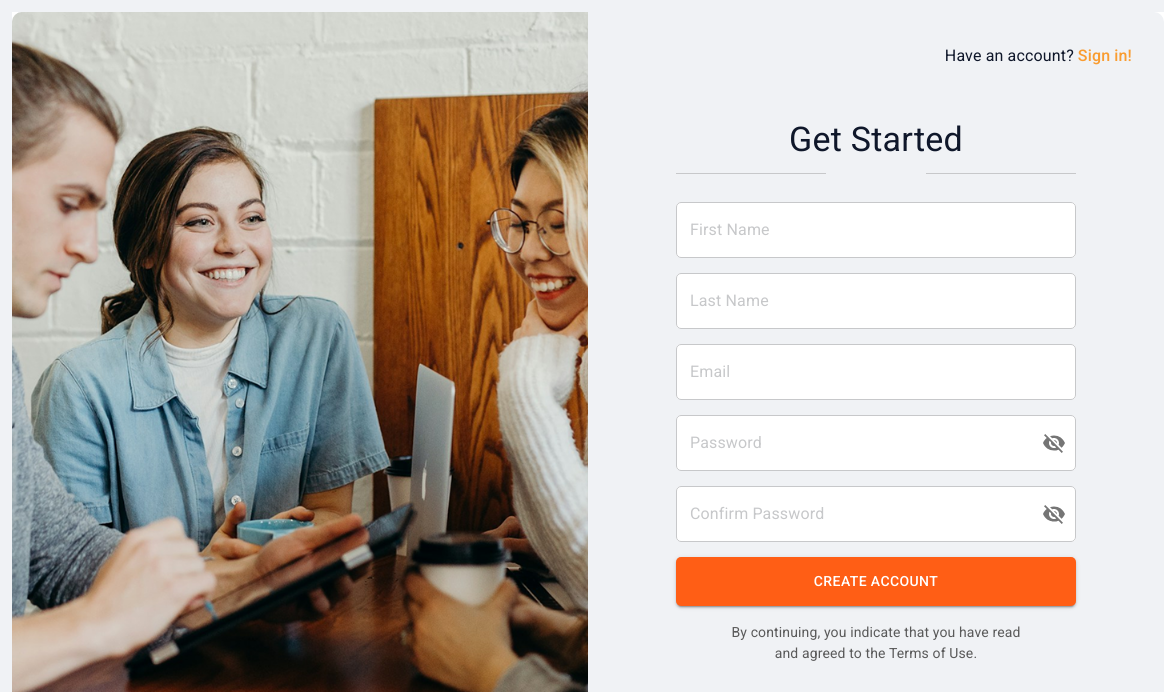
SignUpForm › shows error for empty fields
Click the button "Create Account" at (876, 582), box [676,557,1076,606]
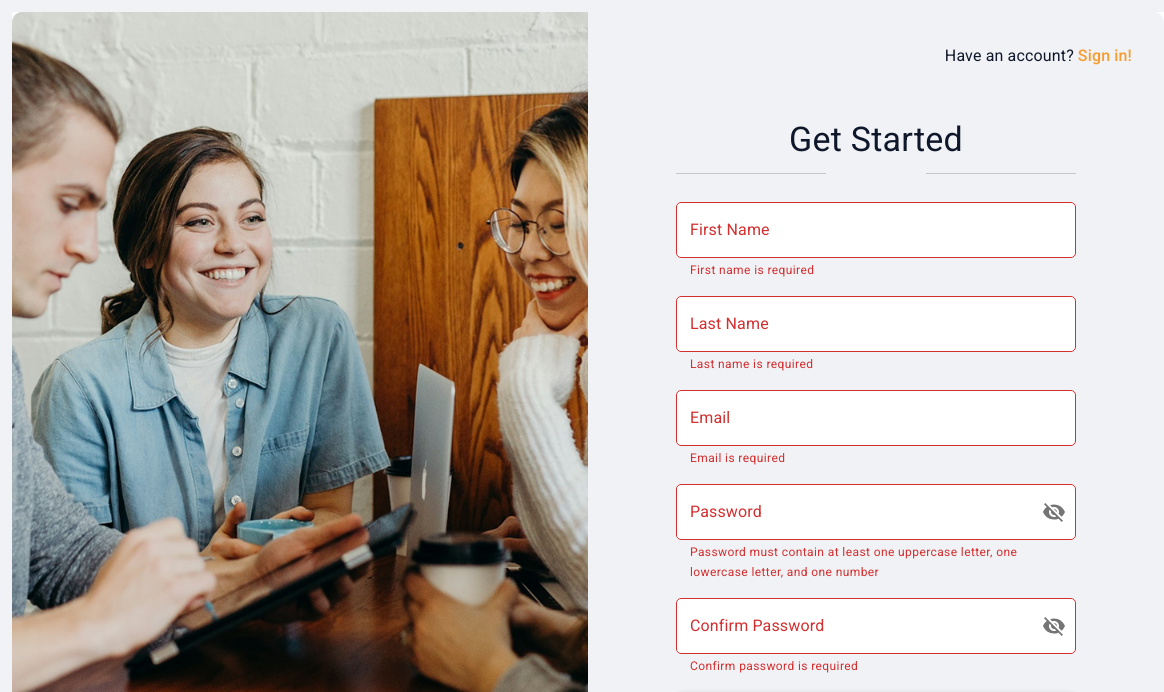
expect the text "First name is required" is shown: met, box [690,263,814,277]
expect the text "Last name is required" is shown: met, box [690,357,813,371]
expect the text "Email is required" is shown: met, box [690,451,785,465]
